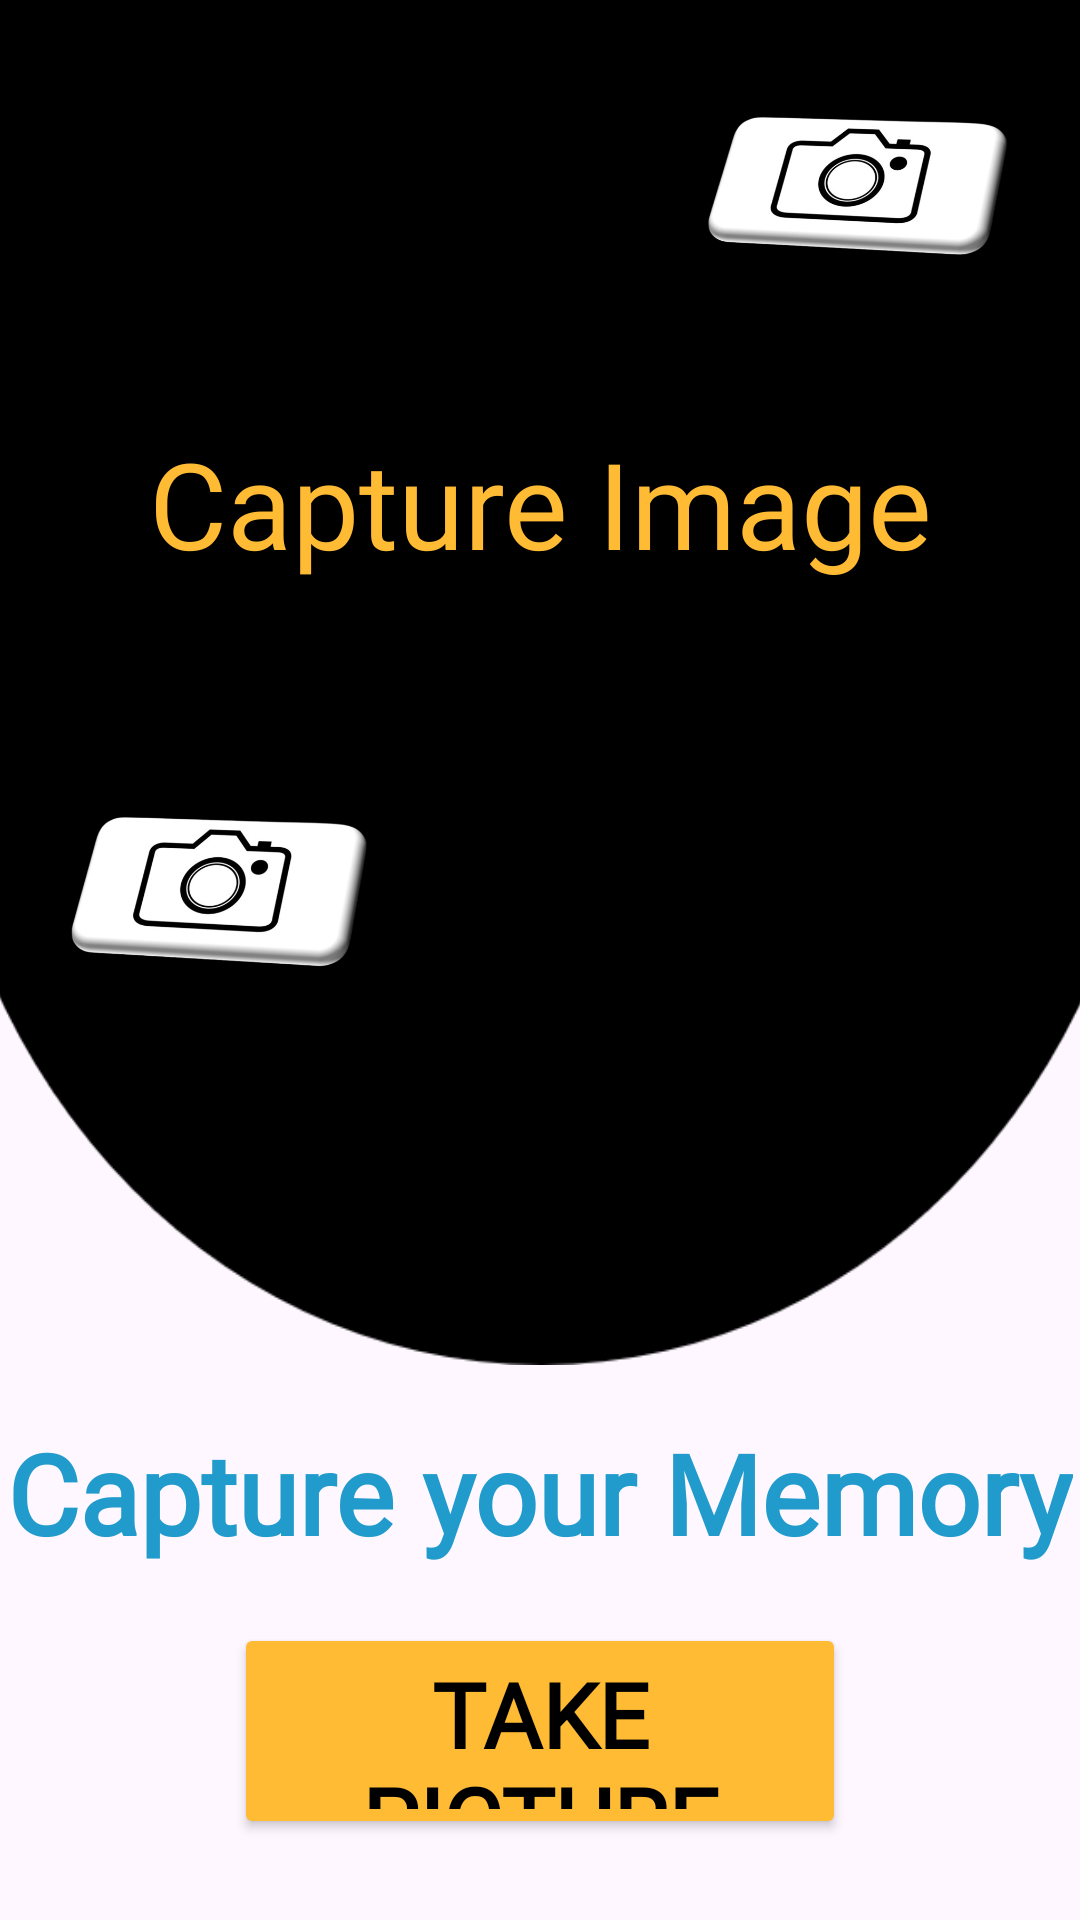

Point at icon controls on the screen. Image size 1080x1920, points as (x,y).
camera: (857,186), (219,891)
